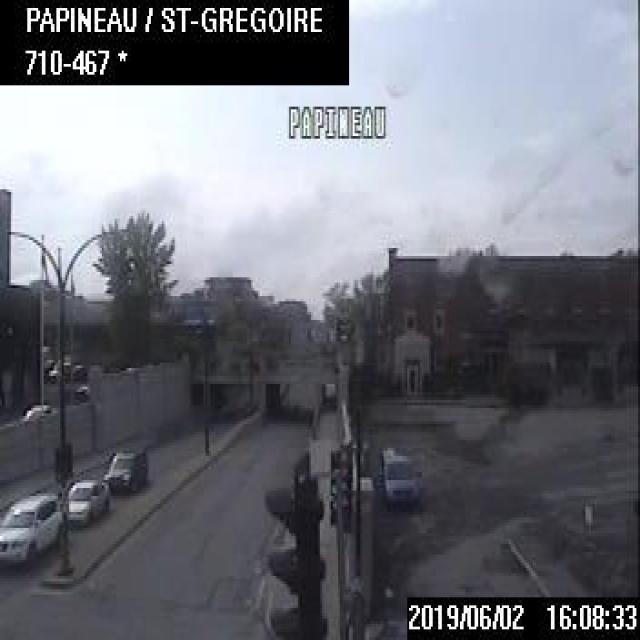vehicle: (0, 491, 64, 565), (376, 440, 425, 504), (60, 476, 110, 528), (105, 444, 152, 492)
